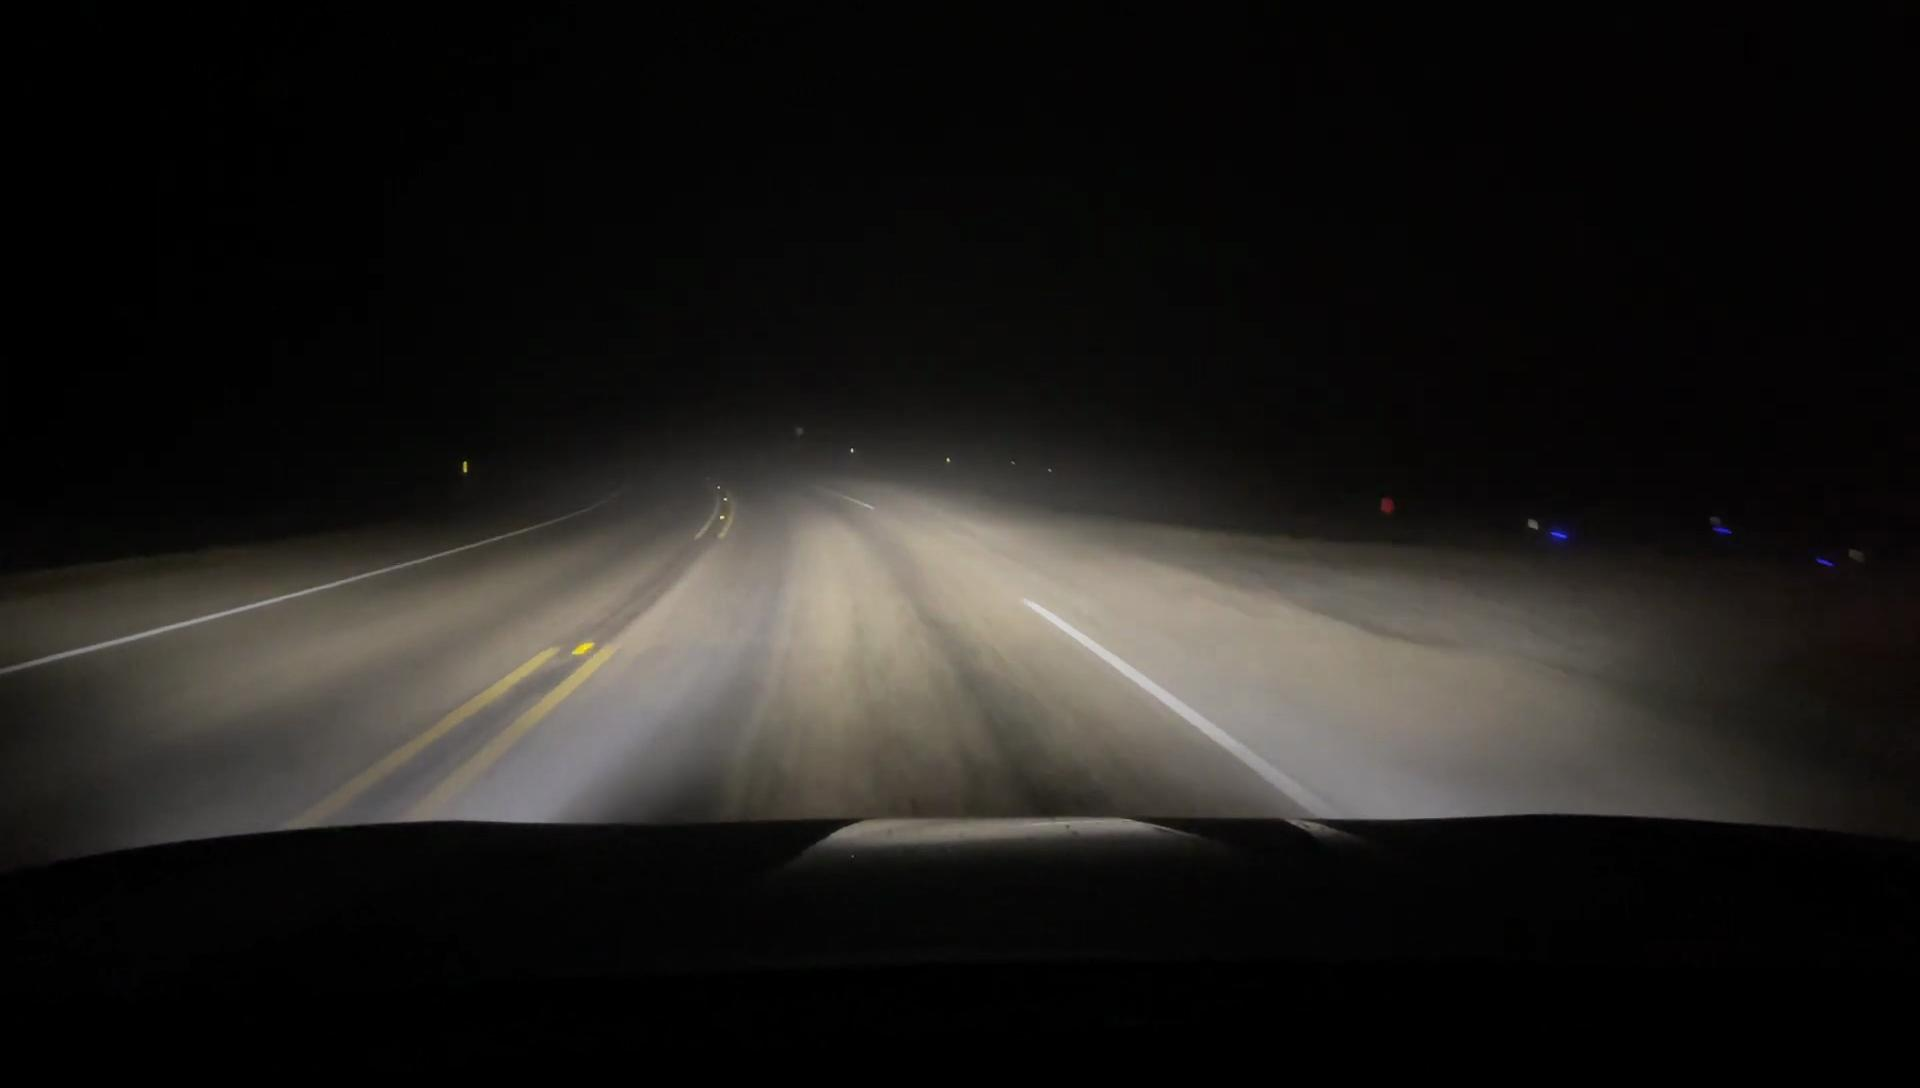road-lanes: (452, 497, 1296, 815)
